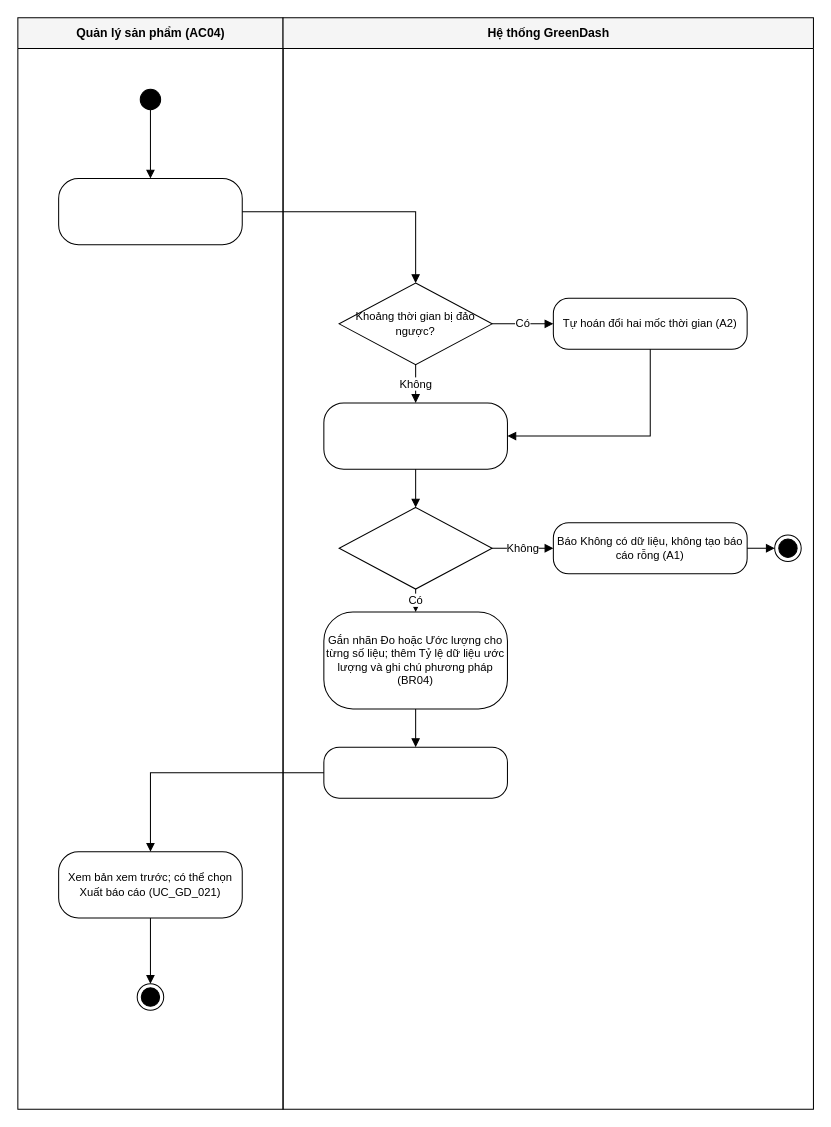
This 831x1127 diagram has some shape labels left out. The centre of each missing label's shape, as x and y in pixels:
Chọn loại báo cáo, sản phẩm, khoảng thời gian, nhấn Lập báo cáo: (150,211)
Có dữ liệu trong kỳ?: (415,547)
Lưu báo cáo, hiển thị bản xem trước: (415,772)
Tổng hợp carbon, hiệu năng, cảnh báo, hành động, nhóm theo môi trường: (415,435)
